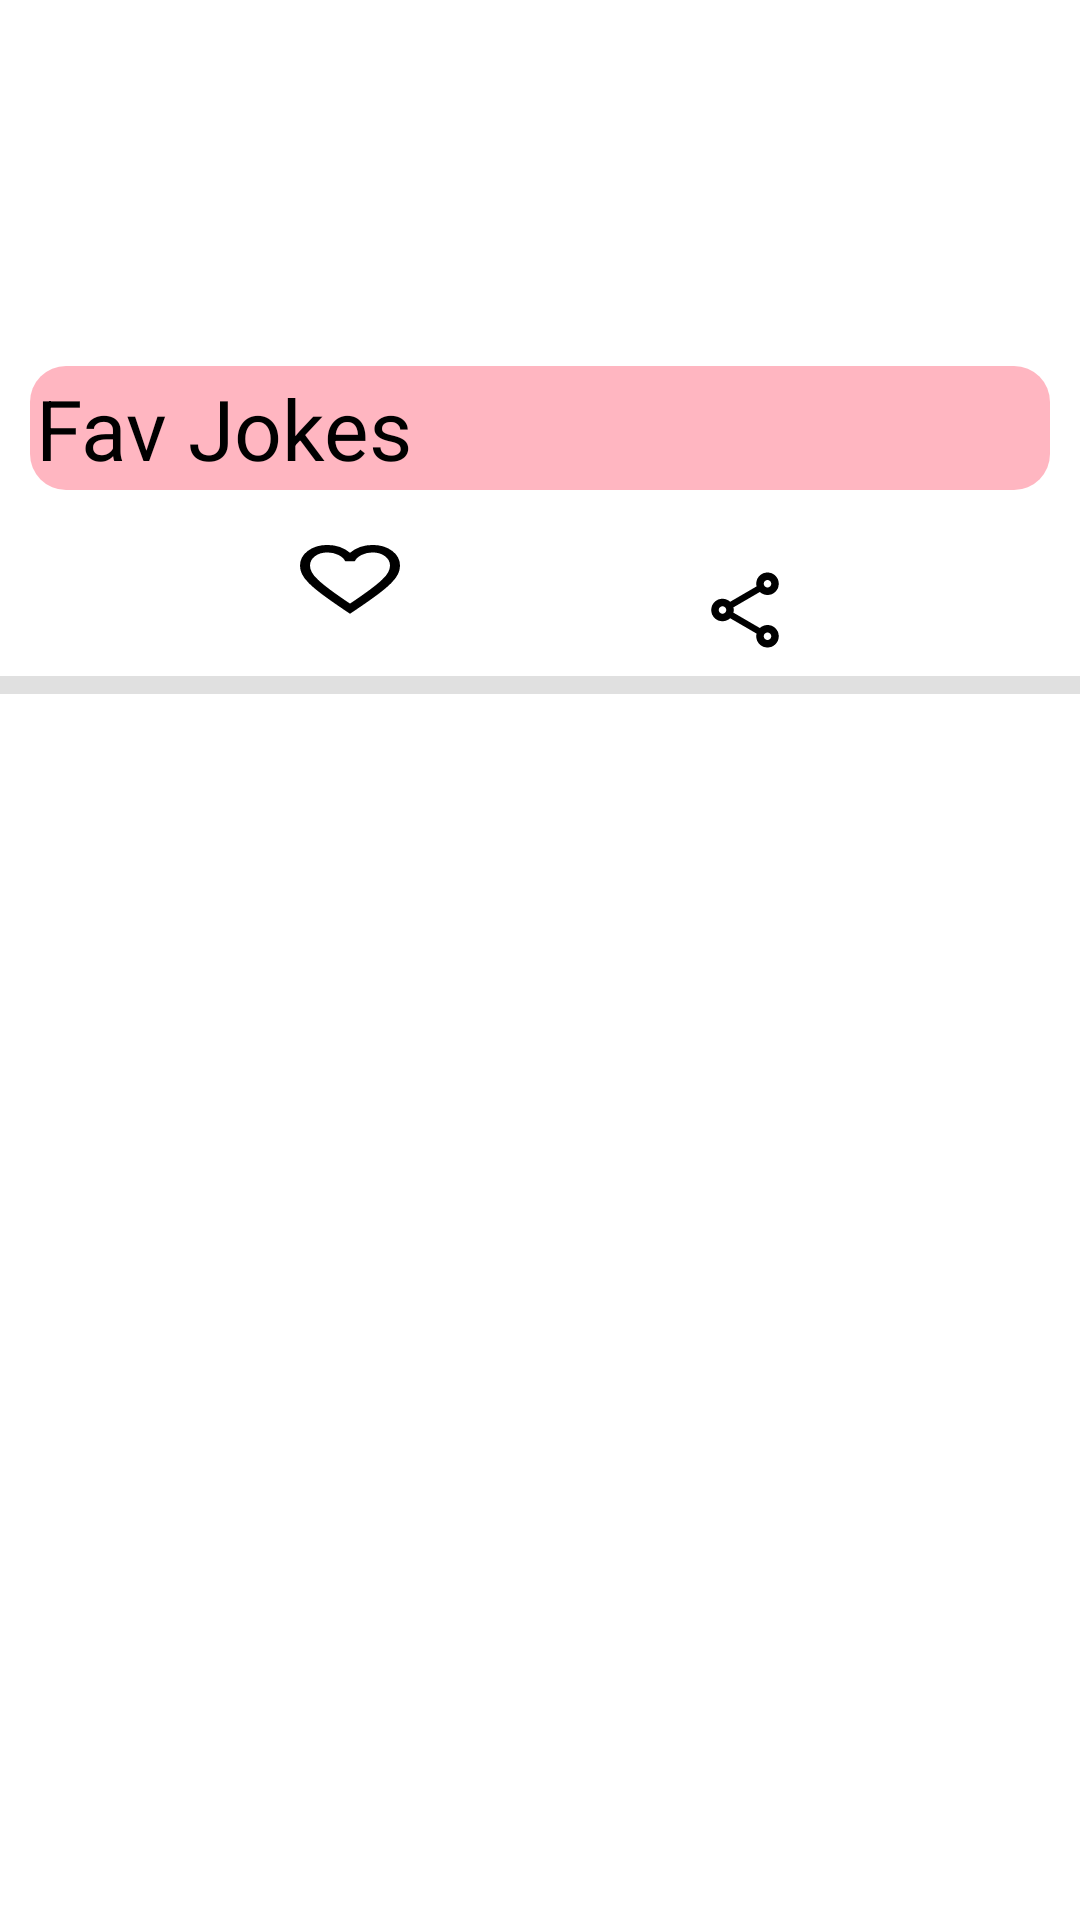

Locate icon controls on the screen. Image size 1080*1920, boxes as BBox(x1, y1, x2, y2).
heart: BBox(300, 545, 400, 614)
share: BBox(700, 572, 790, 694)
